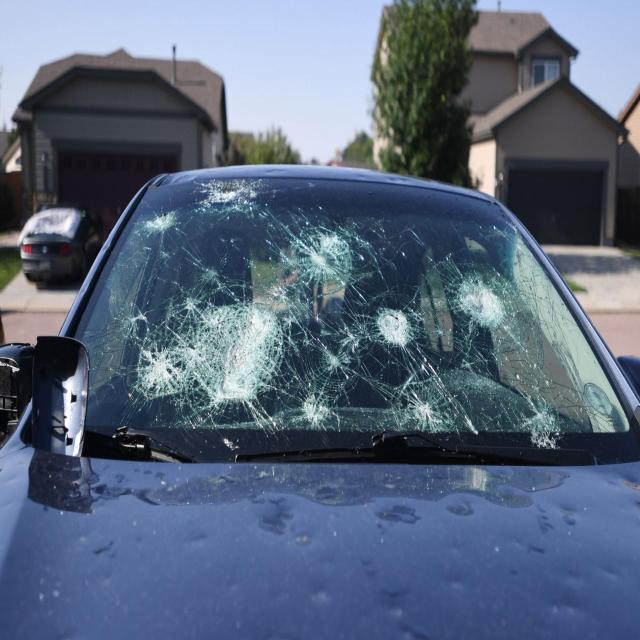crack: (108, 179, 620, 462)
